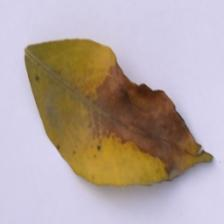black spot: (96, 66, 179, 172)
